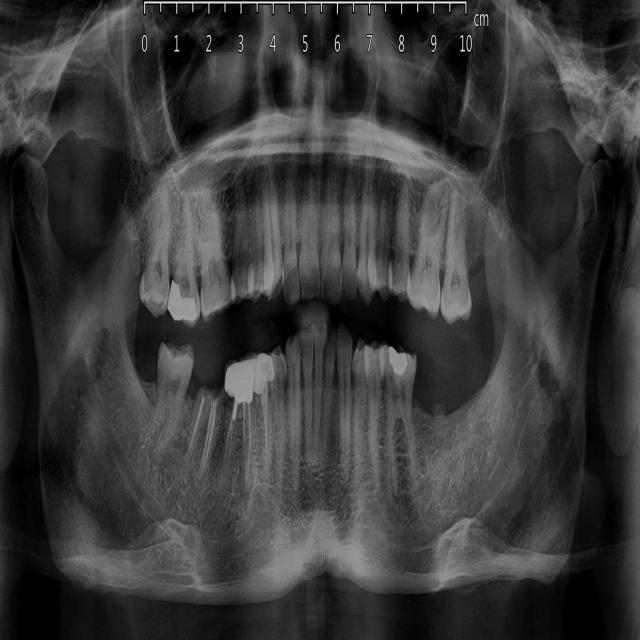Crown: (225, 352, 257, 400), (251, 351, 277, 394)
Filling: (167, 279, 196, 322), (389, 345, 409, 377)
Root Canal Treatment: (223, 423, 235, 474), (261, 384, 268, 470), (222, 419, 232, 472), (247, 403, 252, 476), (242, 402, 245, 449)
Root Piece: (196, 386, 226, 484), (183, 383, 210, 467), (430, 404, 446, 418)
